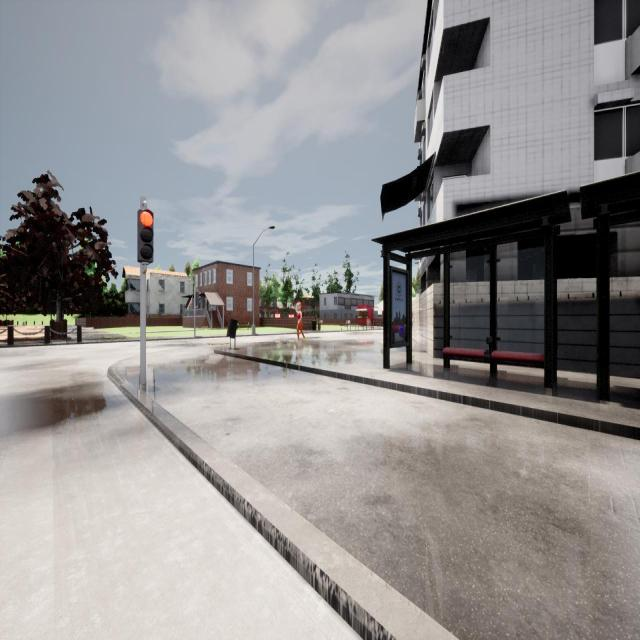Pedestrian: (295, 306, 306, 342)
Traffic_Signs: (294, 301, 302, 312)
traffic_light: (138, 209, 154, 262), (196, 291, 200, 305)
